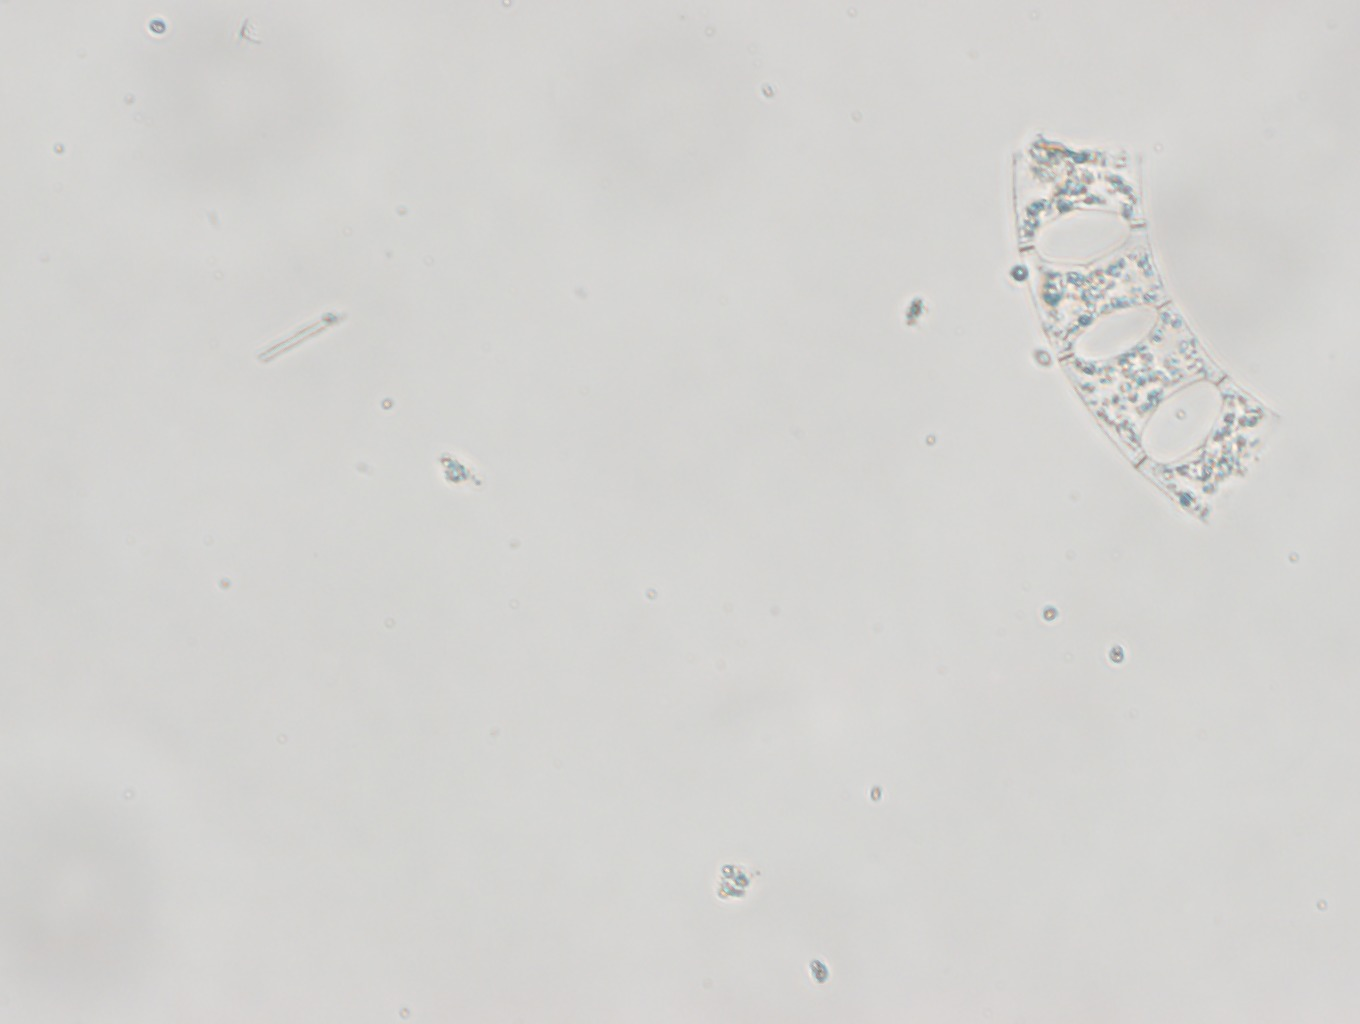eucampia: (1010, 126, 1287, 518)
